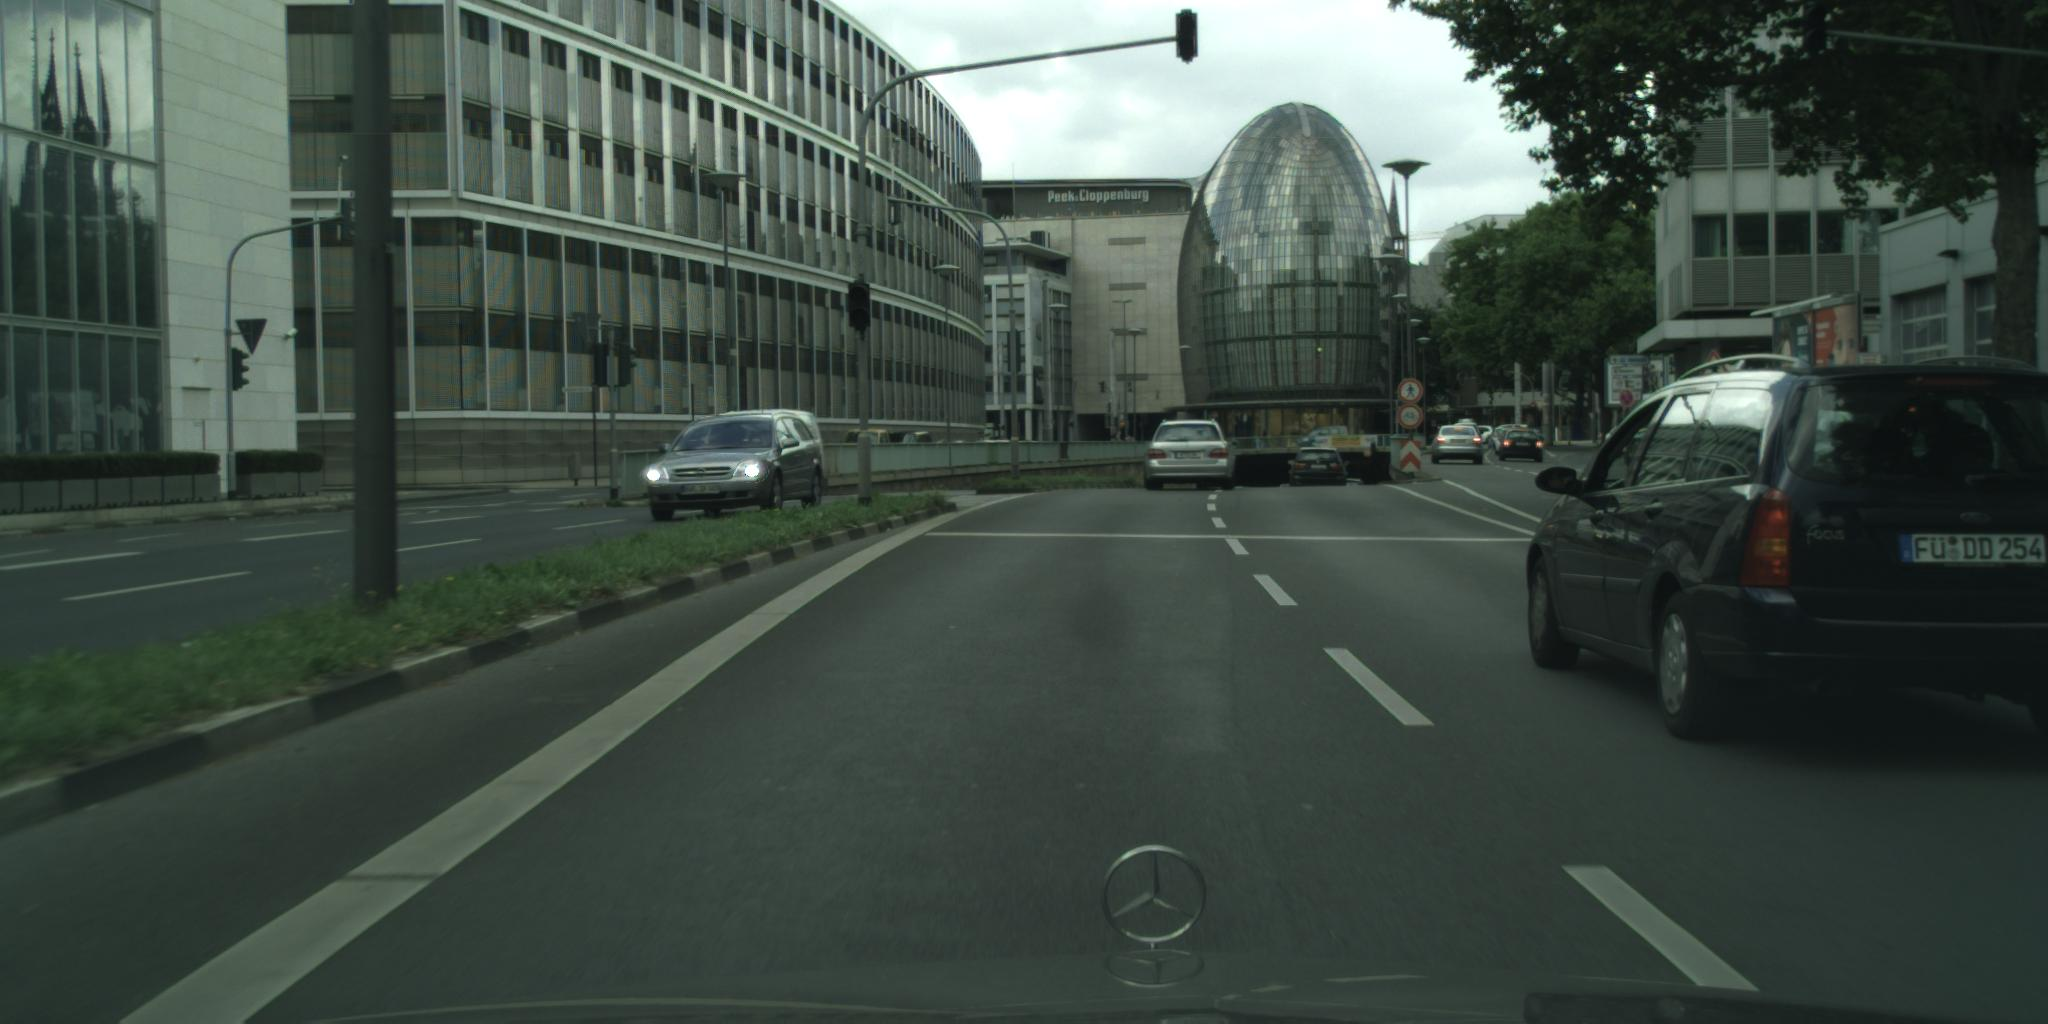car: (1524, 353, 2045, 758), (644, 409, 825, 524), (1144, 417, 1240, 492), (1288, 447, 1352, 488), (1432, 423, 1486, 468), (1297, 424, 1351, 451), (839, 428, 892, 455), (1451, 418, 1482, 451), (886, 431, 935, 451), (1472, 424, 1498, 451), (1344, 477, 1366, 488)
